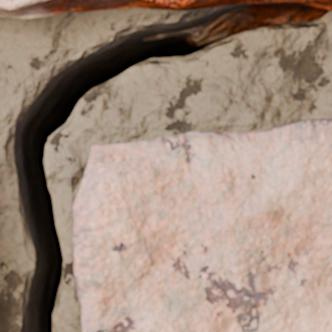brick: (73, 119, 331, 331), (0, 0, 288, 17), (296, 0, 331, 9)
crack: (2, 0, 330, 331)
